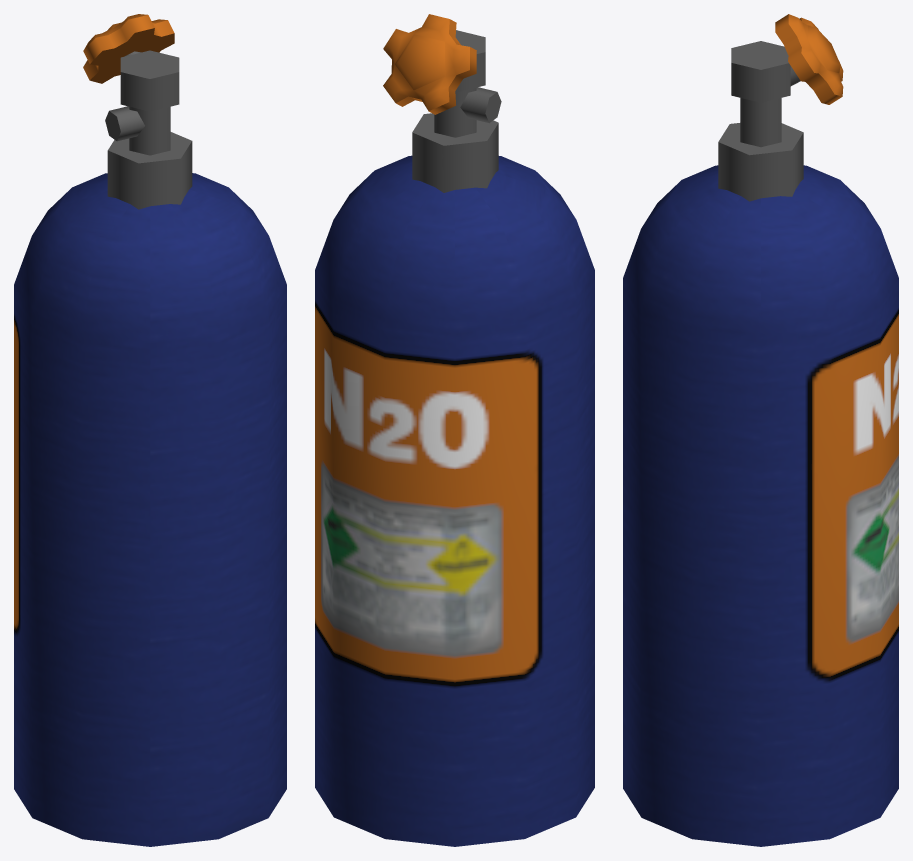
Rendered from GAM0110021.fbx.
The picture shows the model from 3 angles, left to right: view 1: azimuth 30°, elevation 25°; view 2: azimuth 150°, elevation 25°; view 3: azimuth 270°, elevation 25°; orthographic projection. The views are drawn at different scales.
Visible parts, largest first — view 1: smGAM0110021; view 2: smGAM0110021; view 3: smGAM0110021.
Part boxes in pixels (bbox=[...]): smGAM0110021: bbox=[14, 14, 286, 846]; smGAM0110021: bbox=[315, 14, 594, 846]; smGAM0110021: bbox=[623, 14, 898, 846].
Bounding box in the file's own units: 17.27 × 53.24 × 17.27.
1 material, 1 textured.
